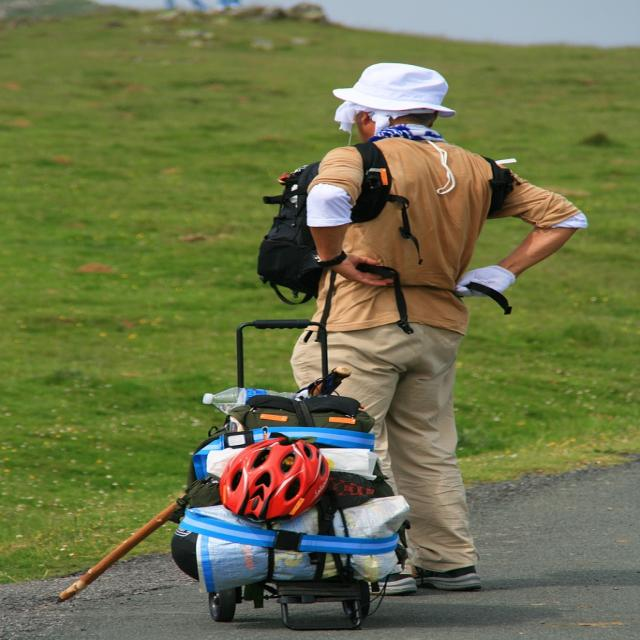backpack: (250, 143, 511, 288)
